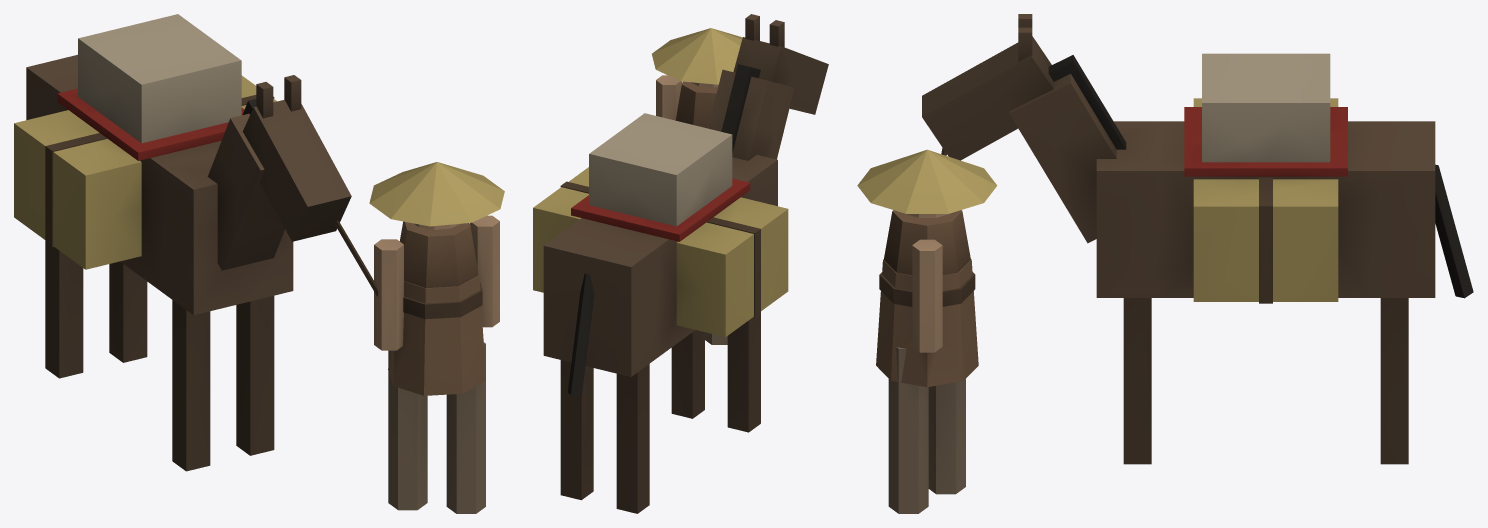
File: mule.glb
The picture shows the model from 3 angles, left to right: view 1: azimuth 30°, elevation 25°; view 2: azimuth 150°, elevation 25°; view 3: azimuth 270°, elevation 25°; orthographic projection. The views are drawn at different scales.
Parts seen in each view (by area): view 1: base; view 2: base; view 3: base.
Boxes of the visible parts, box(x1,y1,x2,y2) form: base: box(14, 14, 504, 513); base: box(533, 14, 828, 513); base: box(857, 14, 1473, 513).
Bounding box in the file's own units: 1.4 × 1.98 × 2.64.
